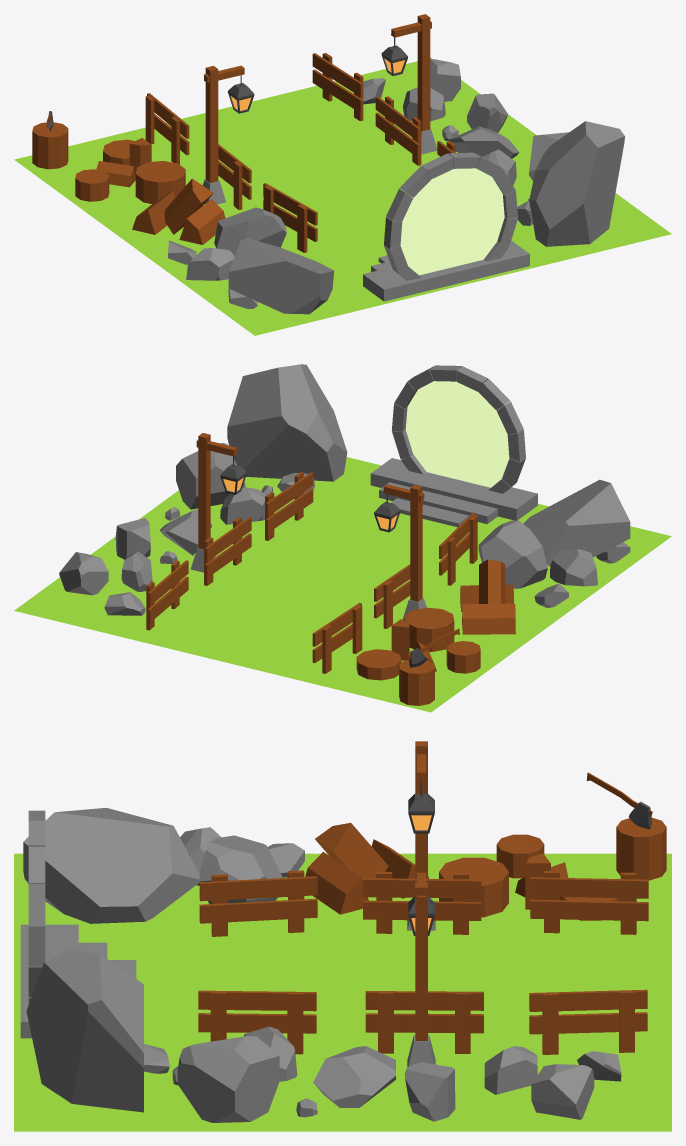
Rendered from my-portal-bake.glb.
The picture shows the model from 3 angles, top to bottom: view 1: azimuth 30°, elevation 25°; view 2: azimuth 150°, elevation 25°; view 3: azimuth 270°, elevation 25°; orthographic projection. The views are drawn at different scales.
Parts seen in each view (by area): view 1: Cube.130, portalLight; view 2: Cube.130, portalLight; view 3: Cube.130.
Part boxes in pixels (x1,y1,x2,y2): Cube.130: (14,14,671,335); portalLight: (400,168,504,275); Cube.130: (14,364,671,712); portalLight: (405,381,509,487); Cube.130: (14,741,671,1131).
Size of the model in its own units: 4 by 1.21 by 4.
